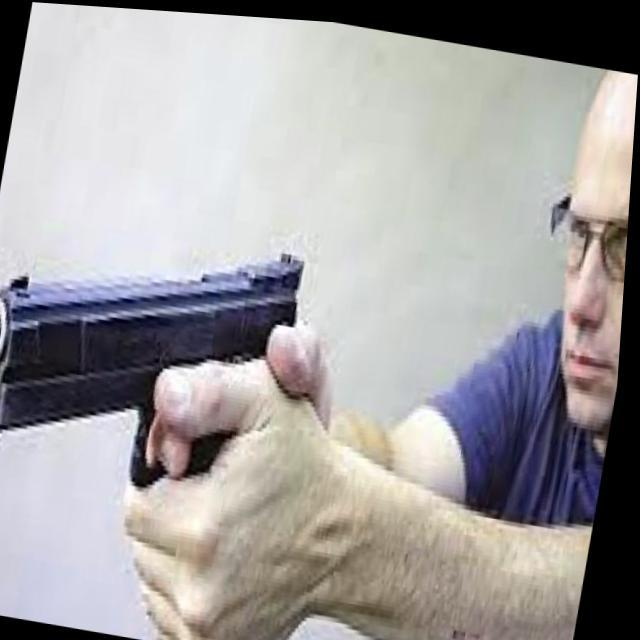weapon: (0, 197, 313, 506)
